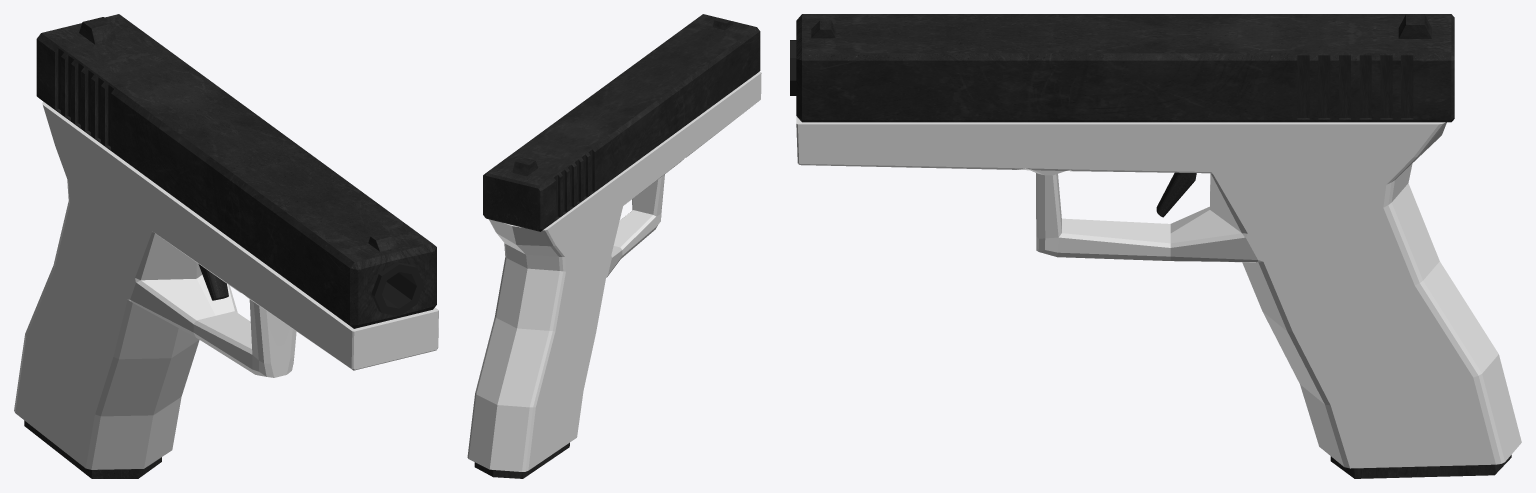
Rendered from glock_gun.fbx.
3 renders of one model, left to right at view 1: azimuth 30°, elevation 25°; view 2: azimuth 150°, elevation 25°; view 3: azimuth 270°, elevation 25°, orthographic. The views are drawn at different scales.
Parts seen in each view (by area): view 1: Cube.001, bottom part.001; view 2: Cube.001, bottom part.001; view 3: Cube.001, bottom part.001.
Boxes of the visible parts, left/top/right/bottom form: Cube.001: left=14, top=14, right=438, bottom=469; bottom part.001: left=24, top=420, right=161, bottom=478; Cube.001: left=467, top=14, right=761, bottom=471; bottom part.001: left=474, top=442, right=569, bottom=478; Cube.001: left=790, top=14, right=1521, bottom=468; bottom part.001: left=1330, top=455, right=1511, bottom=478.
Bounding box in the file's own units: 2.69 × 12.58 × 18.9.
2 materials, 1 textured.
